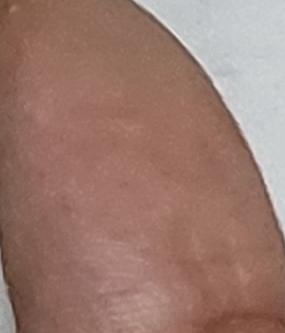Fingerprints: (1, 0, 285, 332)
